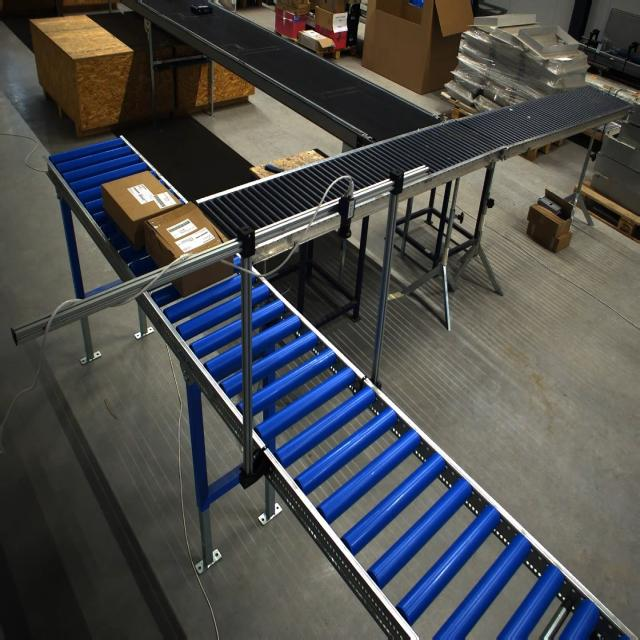box: (143, 203, 234, 295), (100, 171, 182, 251)
product: (190, 3, 213, 15)
